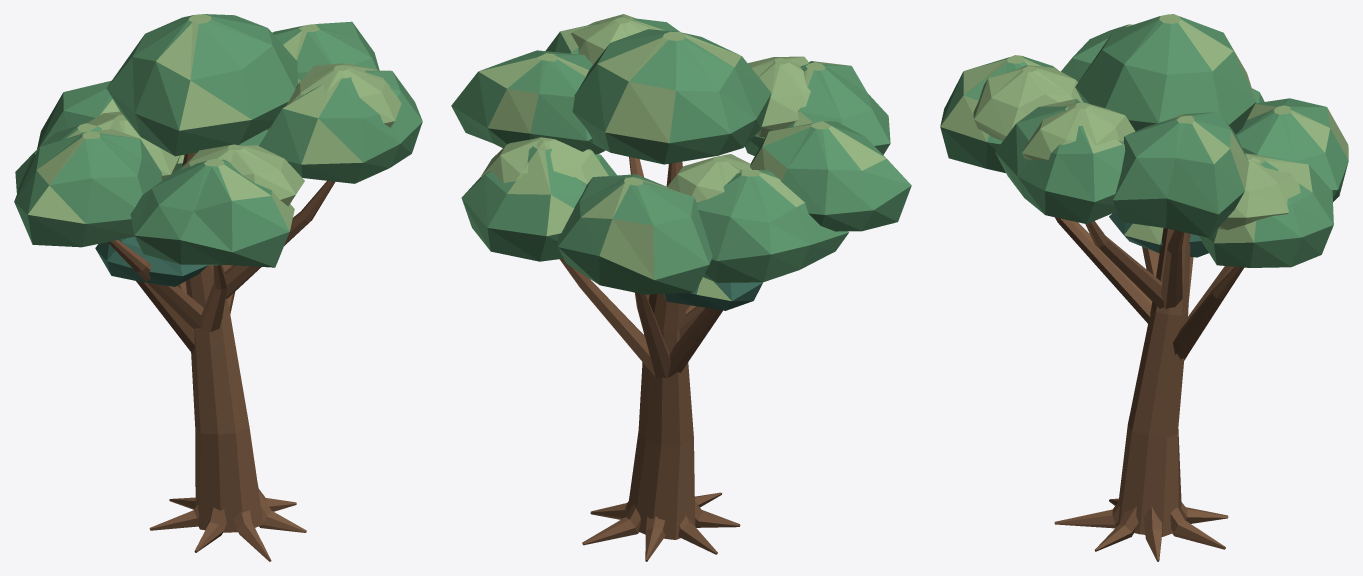
The model's file is tree_sage_elder.glb.
3 renders of one model, left to right at view 1: azimuth 30°, elevation 25°; view 2: azimuth 150°, elevation 25°; view 3: azimuth 270°, elevation 25°, orthographic.
Parts seen in each view (by area): view 1: tree_sage_elder / mesh; view 2: tree_sage_elder / mesh; view 3: tree_sage_elder / mesh.
Part boxes in pixels (x1,y1,x2,y2): tree_sage_elder / mesh: (14, 14, 422, 561); tree_sage_elder / mesh: (451, 14, 911, 561); tree_sage_elder / mesh: (940, 14, 1348, 561).
Size of the model in its own units: 11.37 by 13.56 by 10.05.
